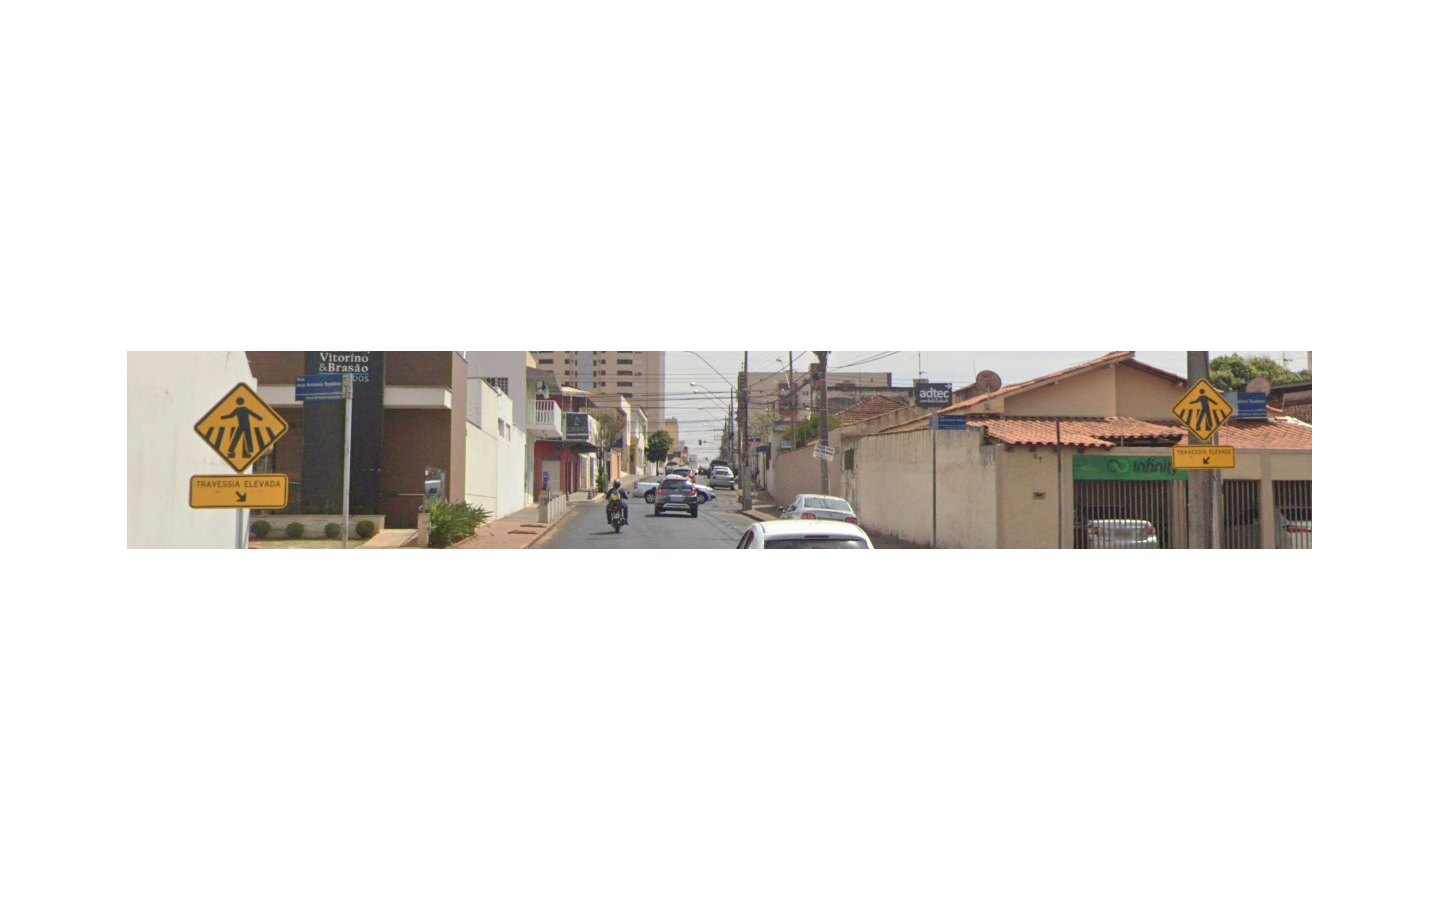telev: (189, 381, 289, 508), (1171, 378, 1235, 469)
